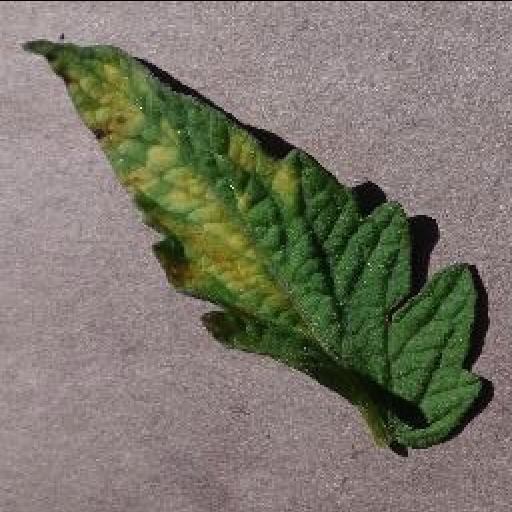disease_tomato: (20, 38, 486, 448)
